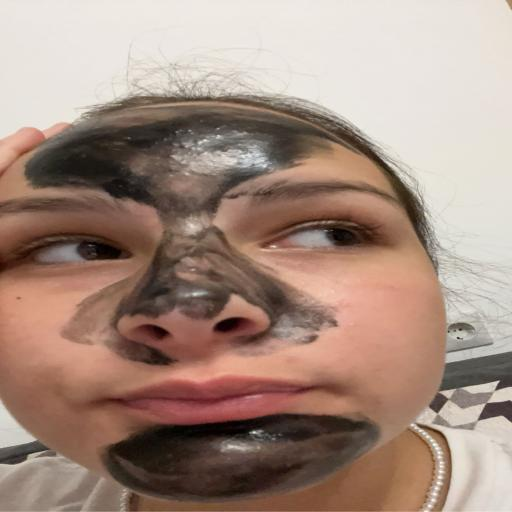marija: (0, 109, 455, 505)
